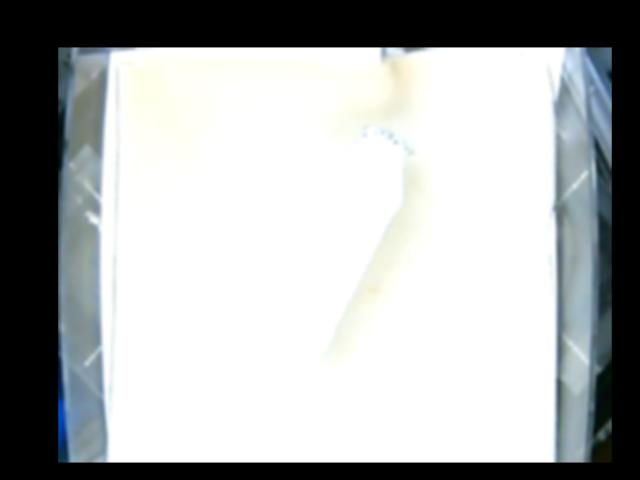Bottle: (253, 125, 415, 360)
